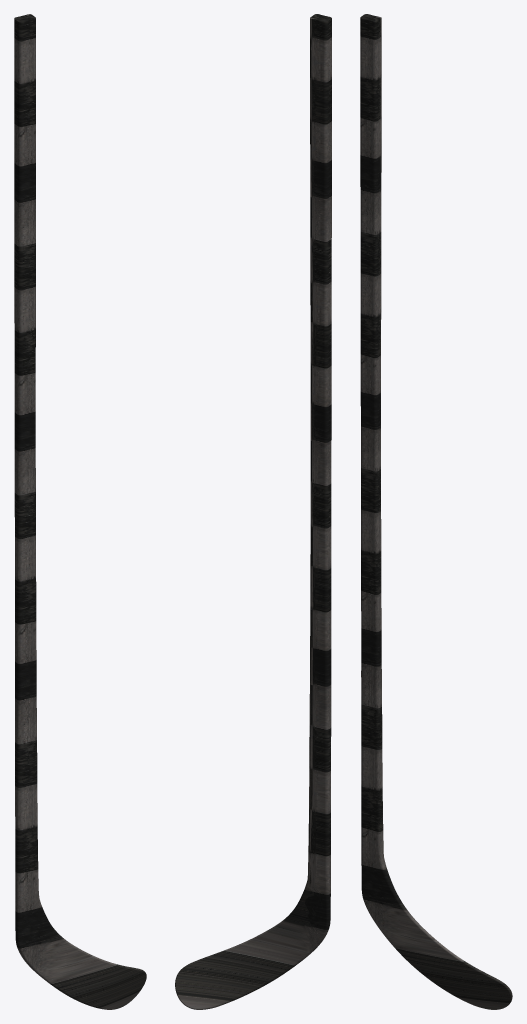
File: P77-SBT.glb
The picture shows the model from 3 angles, left to right: view 1: azimuth 30°, elevation 25°; view 2: azimuth 150°, elevation 25°; view 3: azimuth 330°, elevation 25°; orthographic projection. The views are drawn at different scales.
Visible parts, largest first — view 1: geometry_0; view 2: geometry_0; view 3: geometry_0.
Part boxes in pixels (left/top/right/bottom): geometry_0: left=14, top=14, right=146, bottom=1009; geometry_0: left=175, top=14, right=331, bottom=1009; geometry_0: left=360, top=14, right=512, bottom=1009.
Bounding box in the file's own units: 241 × 1650 × 60.76.
1 material, 1 textured.
